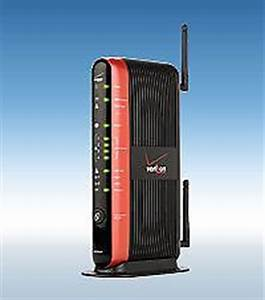Verizon Router: (76, 21, 197, 280)
